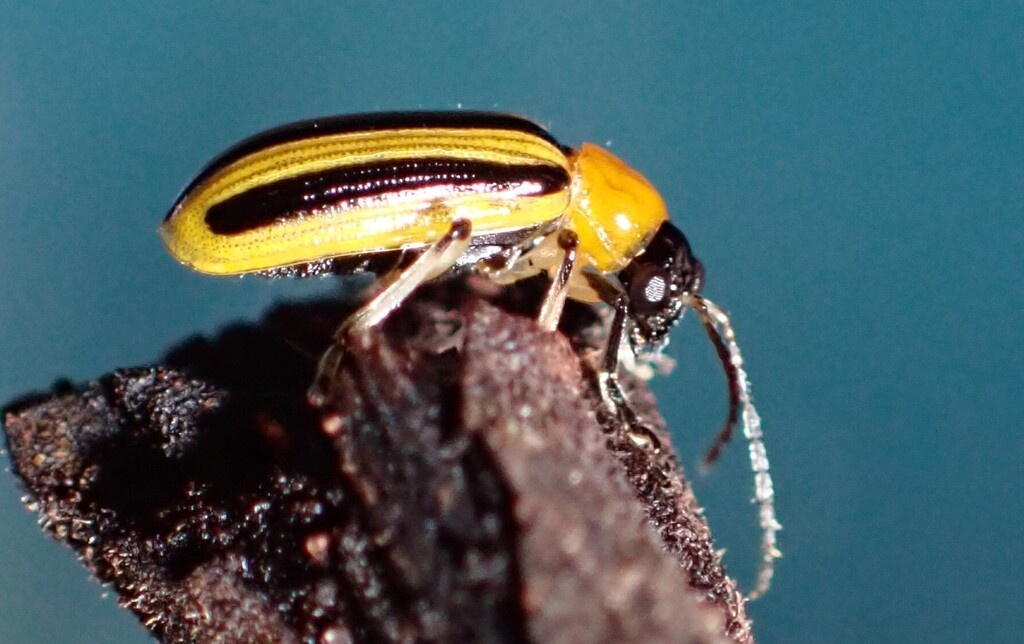potato_beetle: (86, 36, 848, 623)
